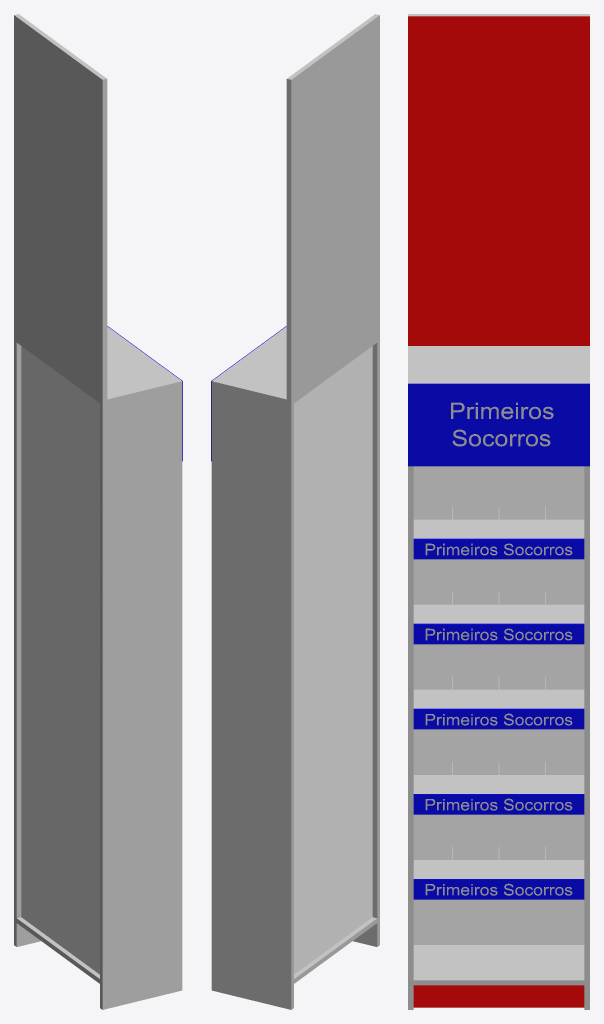
File: mip Primeiros Socorros.glb
The picture shows the model from 3 angles, left to right: view 1: azimuth 30°, elevation 25°; view 2: azimuth 150°, elevation 25°; view 3: azimuth 270°, elevation 25°; orthographic projection. The views are drawn at different scales.
Visible parts, largest first — view 1: Geom3D_ (×6); view 2: Geom3D_ (×6); view 3: Geom3D (×8), Geom3D_ (×11), Geom3D_Primeiros Socorr#2 (×5), Geom3D_Primeiros Socorr.
Boxes of the visible parts, bbox=[...] form: Geom3D_ (×6): bbox=[14, 14, 182, 1009]; Geom3D_ (×6): bbox=[211, 14, 379, 1009]; Geom3D (×8): bbox=[408, 16, 589, 1007]; Geom3D_ (×11): bbox=[408, 14, 589, 1009]; Geom3D_Primeiros Socorr#2 (×5): bbox=[425, 543, 572, 895]; Geom3D_Primeiros Socorr: bbox=[451, 402, 553, 446].
Size of the model in its own units: 0.263 by 2.9 by 0.5.
